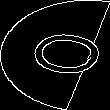O_E: (8, 27, 102, 83)
